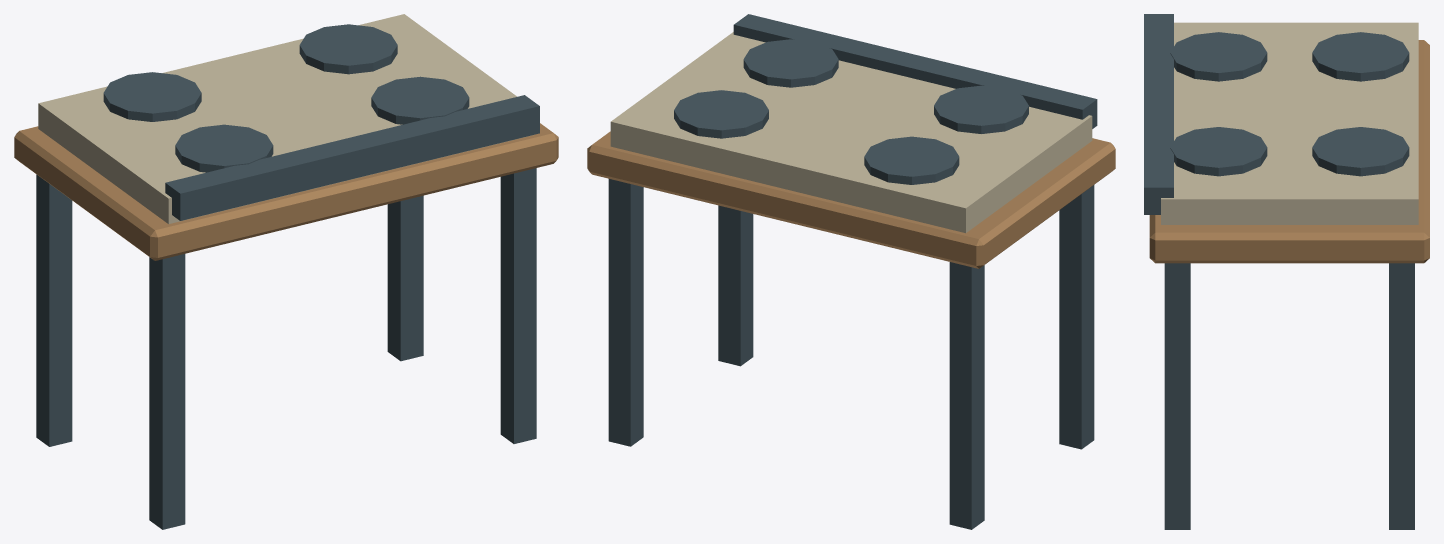
File: stove_station.glb
3 renders of one model, left to right at view 1: azimuth 30°, elevation 25°; view 2: azimuth 150°, elevation 25°; view 3: azimuth 270°, elevation 25°, orthographic. The views are drawn at different scales.
Parts seen in each view (by area): view 1: stove_station; view 2: stove_station; view 3: stove_station.
Part boxes in pixels (x1=…): stove_station: x1=14, y1=14, x2=558, y2=529; stove_station: x1=587, y1=14, x2=1115, y2=529; stove_station: x1=1144, y1=14, x2=1429, y2=529.
Bounding box in the file's own units: 1.25 × 1 × 0.765.
